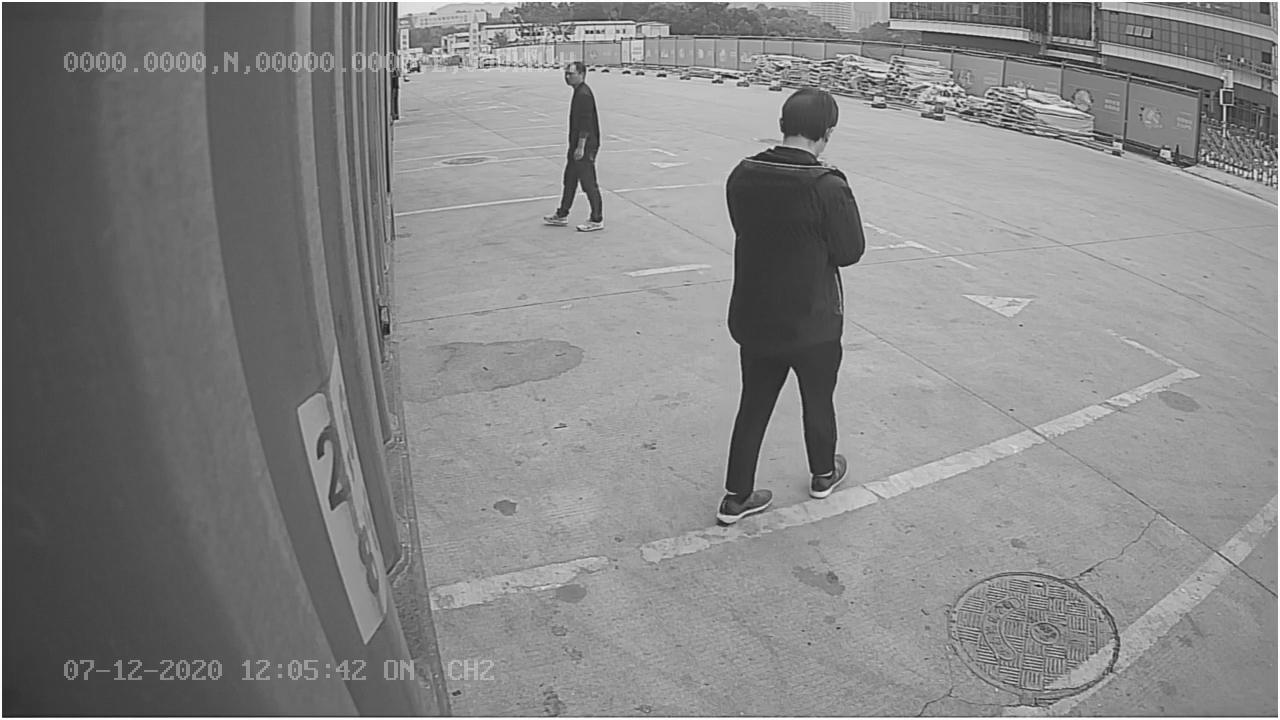person: (714, 84, 865, 523)
